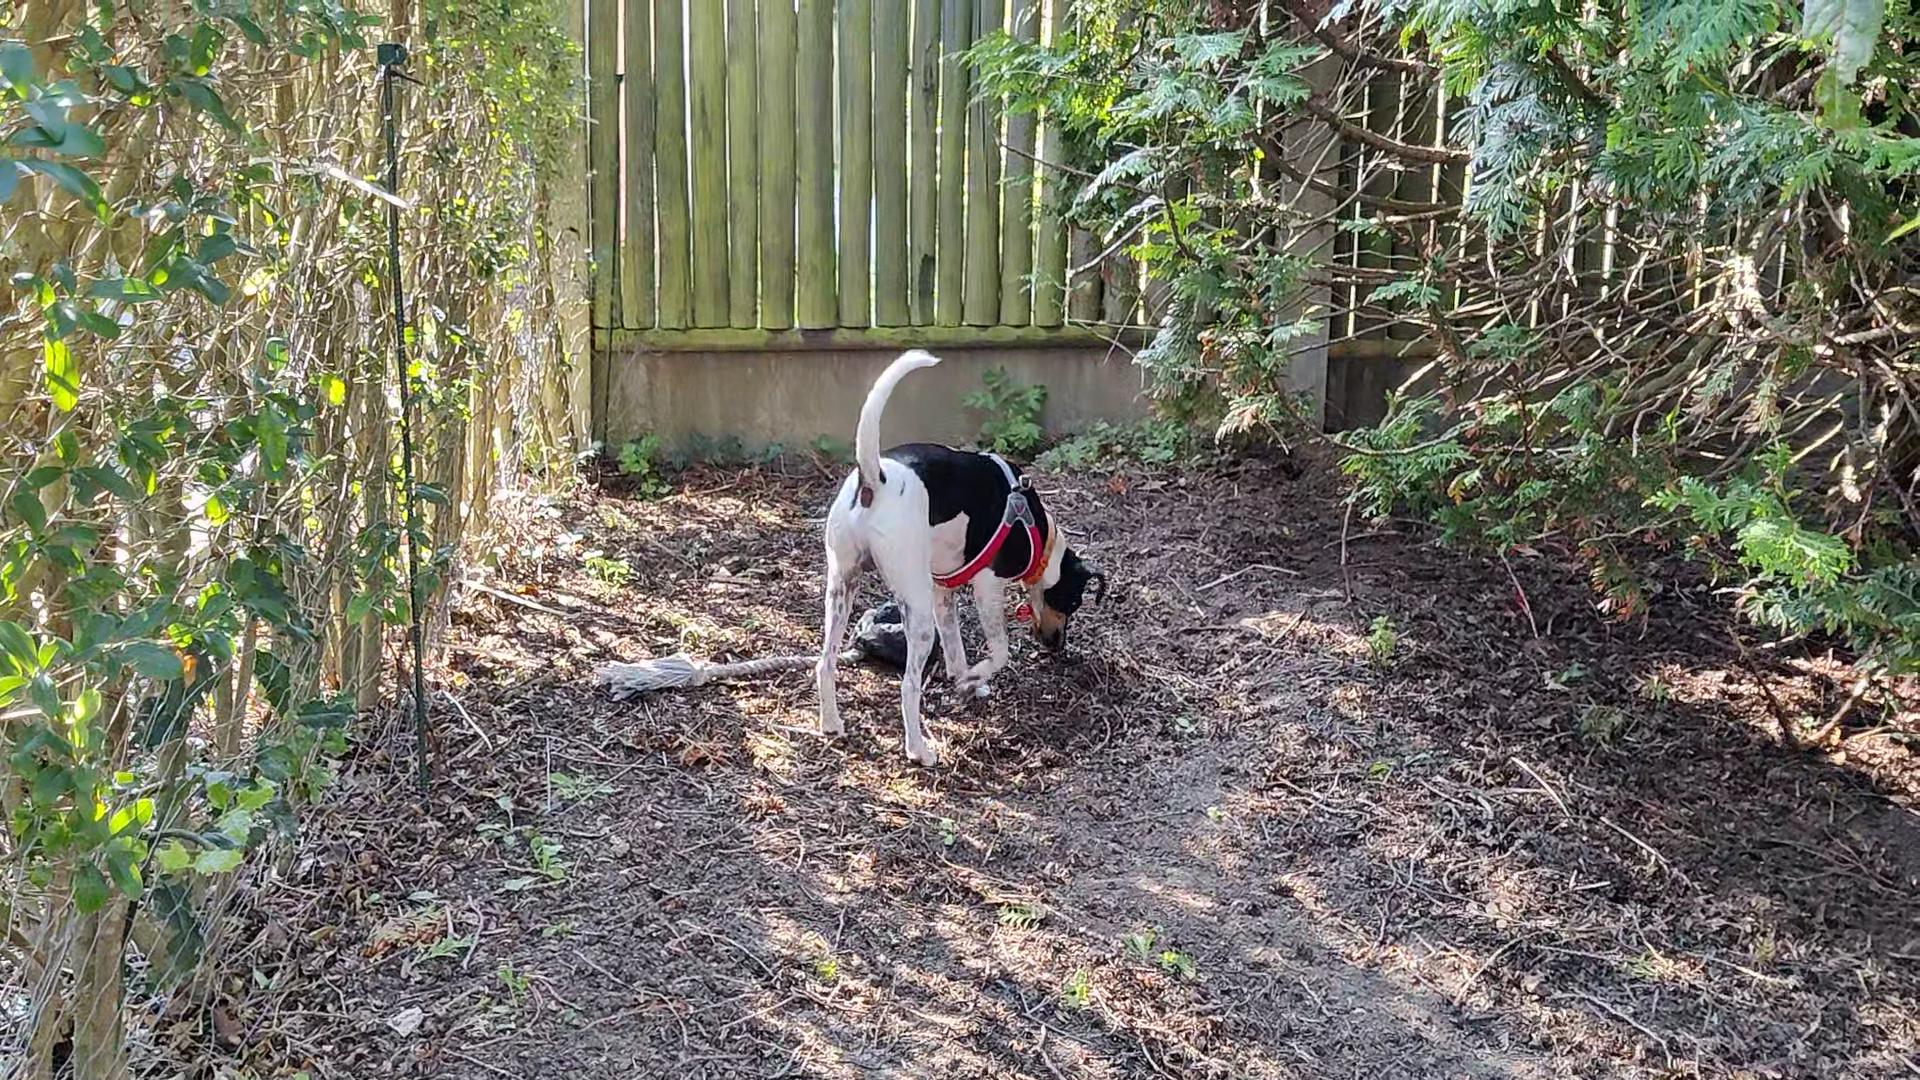Dog: (802, 348, 1112, 773)
